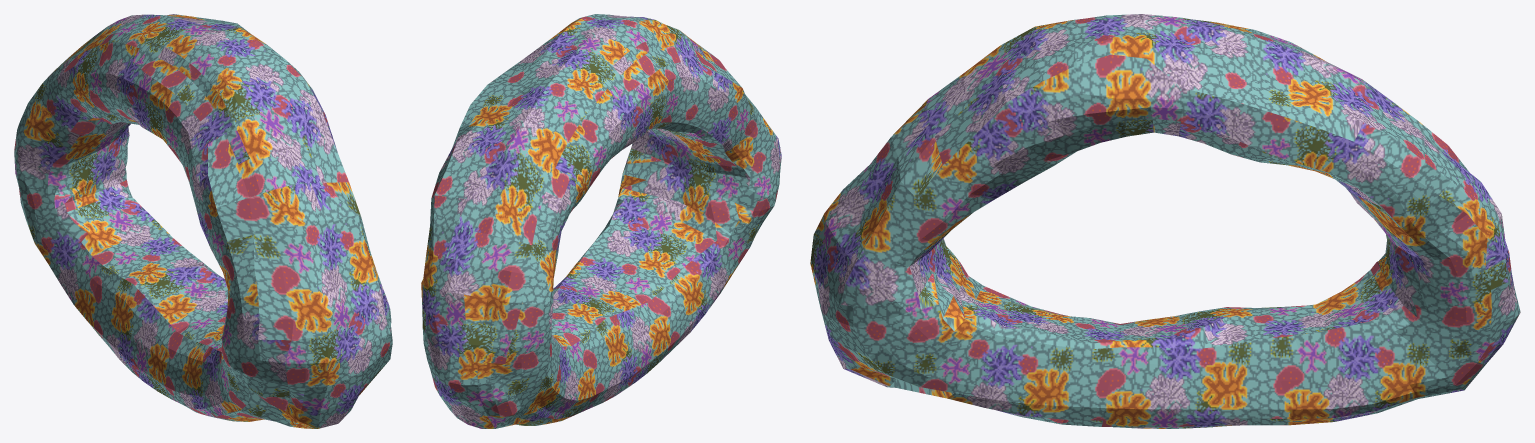
The model's file is Riffbogen.fbx.
3 views of the same model, side by side, from view 1: azimuth 30°, elevation 25°; view 2: azimuth 150°, elevation 25°; view 3: azimuth 270°, elevation 25° (orthographic). The views are drawn at different scales.
Parts seen in each view (by area): view 1: Torus; view 2: Torus; view 3: Torus.
Part boxes in pixels (<box>): Torus: <box>14,14,392,428</box>; Torus: <box>421,14,781,428</box>; Torus: <box>810,14,1520,428</box>.
Bounding box in the file's own units: 625 × 1327 × 2015.
